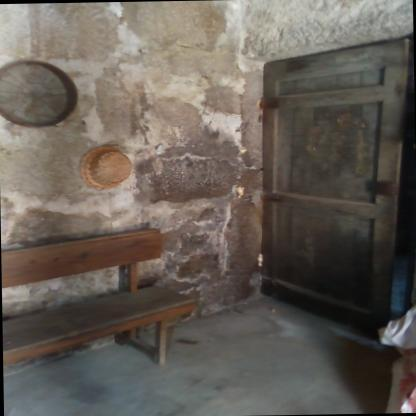closed: (223, 10, 412, 330)
